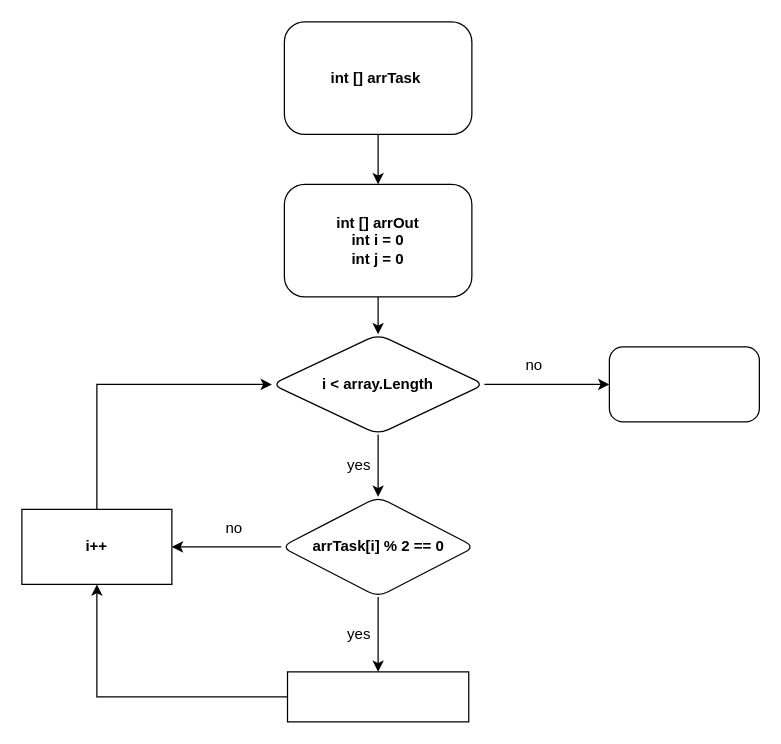
The diagram is 781 pixels wide and 744 high, and some of its shapes have lost their labels. The shapes that lost their labels are listed below. From the top down, each one's centre as x and y in pixels, then its label:
point 683,384: arrTask
point 377,696: arrOut[j] = arrTask[i] j++
